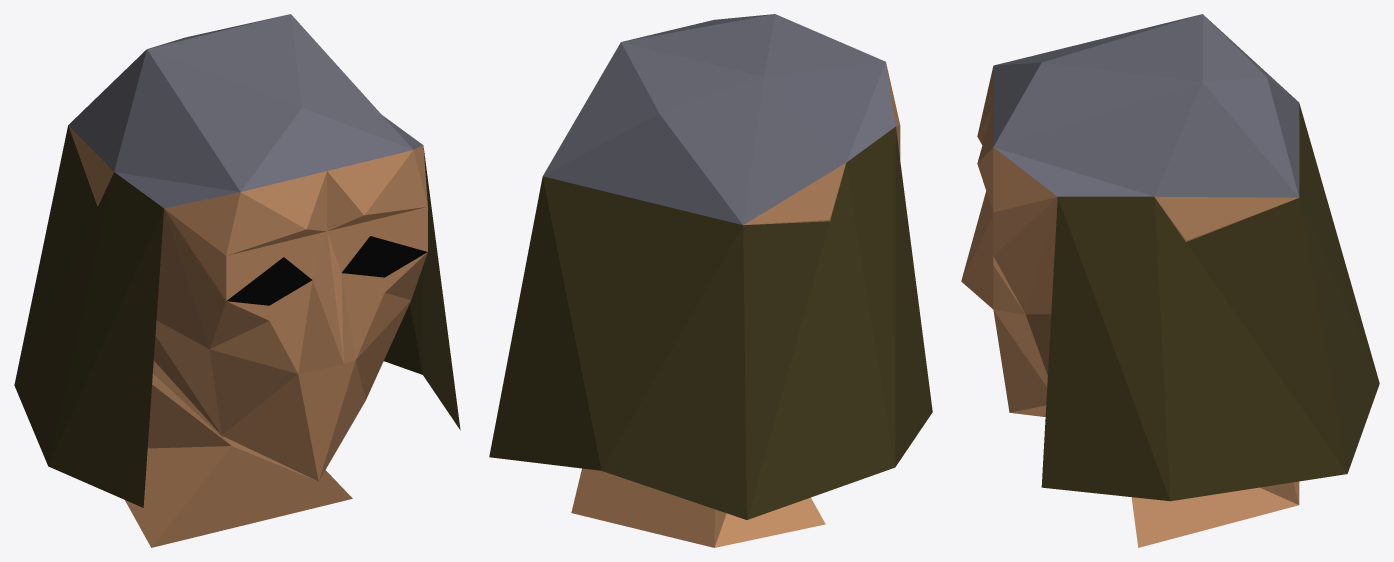
File: model_396_obj_wear.obj
The picture shows the model from 3 angles, left to right: view 1: azimuth 30°, elevation 25°; view 2: azimuth 150°, elevation 25°; view 3: azimuth 270°, elevation 25°; orthographic projection. The views are drawn at different scales.
Parts seen in each view (by area): view 1: 396; view 2: 396; view 3: 396.
Boxes of the visible parts, x1=… form: 396: x1=14, y1=14, x2=460, y2=547; 396: x1=489, y1=14, x2=932, y2=547; 396: x1=961, y1=14, x2=1379, y2=547.
Size of the model in its own units: 26 by 31 by 26.
